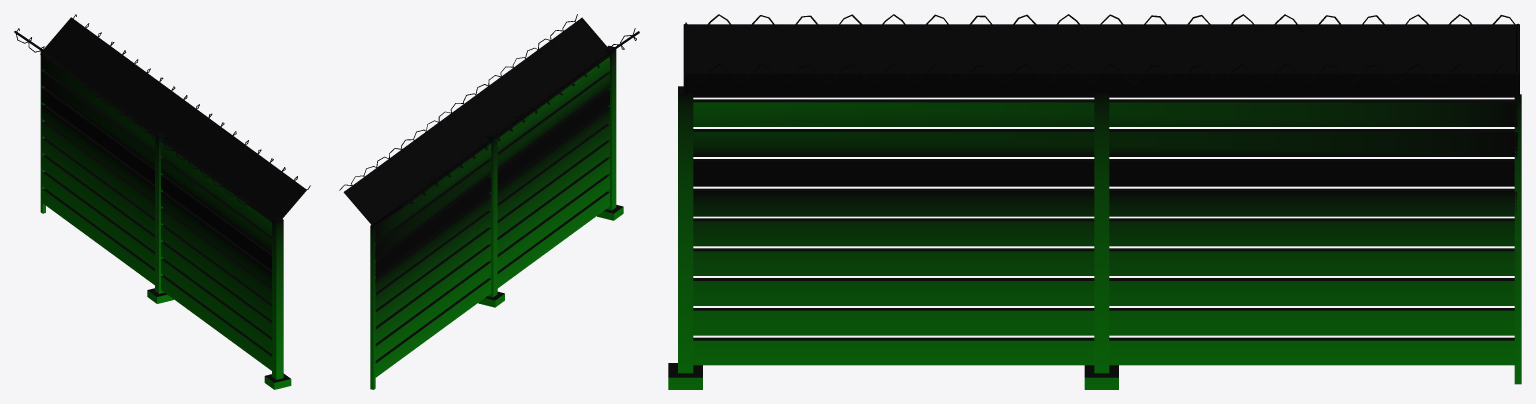
The model's file is razorwirefencediag.glb.
The picture shows the model from 3 angles, left to right: view 1: azimuth 30°, elevation 25°; view 2: azimuth 150°, elevation 25°; view 3: azimuth 270°, elevation 25°; orthographic projection. The views are drawn at different scales.
Parts seen in each view (by area): view 1: lod0; view 2: lod0; view 3: lod0.
Part boxes in pixels (bbox=[...]): lod0: bbox=[14, 14, 310, 389]; lod0: bbox=[339, 14, 639, 389]; lod0: bbox=[668, 14, 1521, 389].
Size of what is drawn, in the model's own units: 2 by 5.5 by 12.4.
